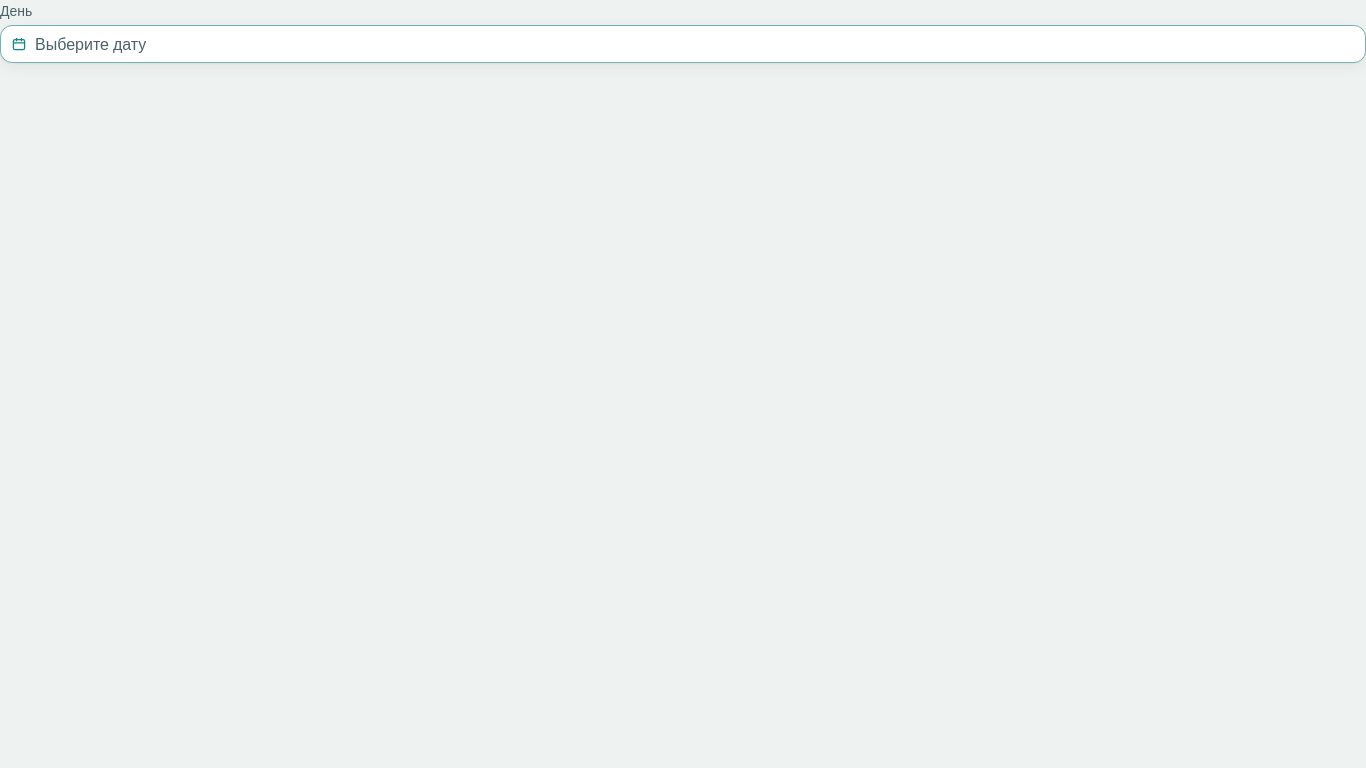
Test: календарь DateInput: в 01:00 по Бишкеку «сегодня» — 27-е, хотя в Москве и Нью-Йорке ещё 26-е
Click the button named "День".
click(91, 44)  # box [0, 25, 1365, 63]
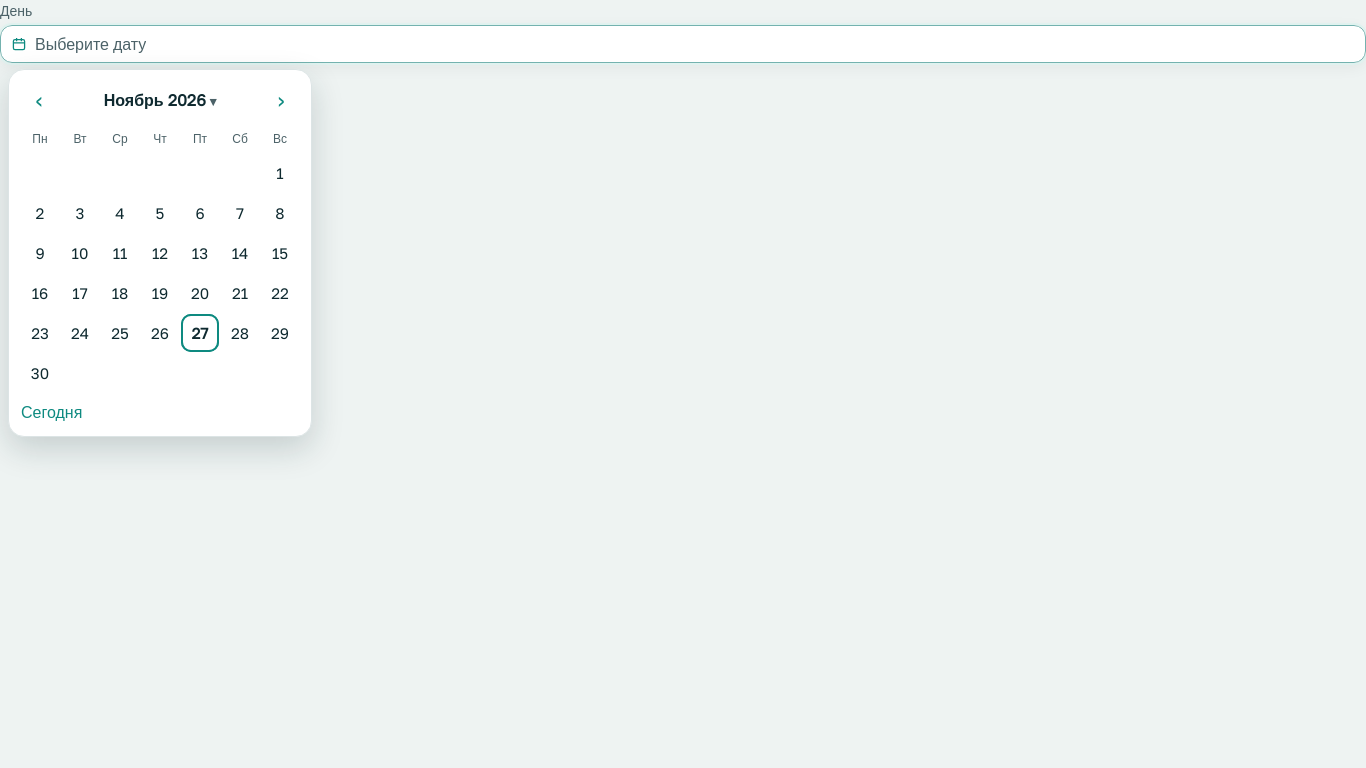
Check: the button "Ноябрь 2026 ▾" is shown, box [94, 84, 226, 116]
Click the button "Сегодня".
click(52, 412)  # box [21, 400, 82, 424]
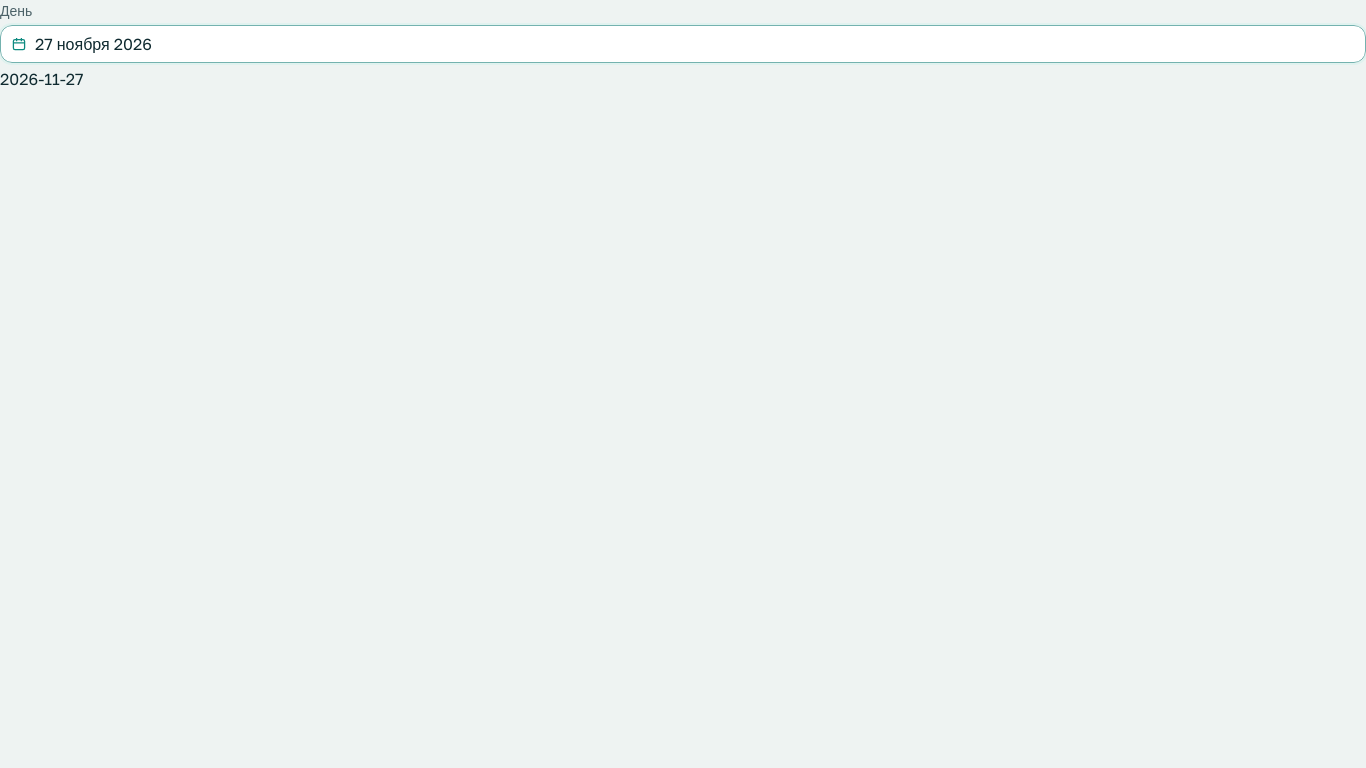
Check: the text "2026-11-27" is shown, box [0, 69, 84, 89]
